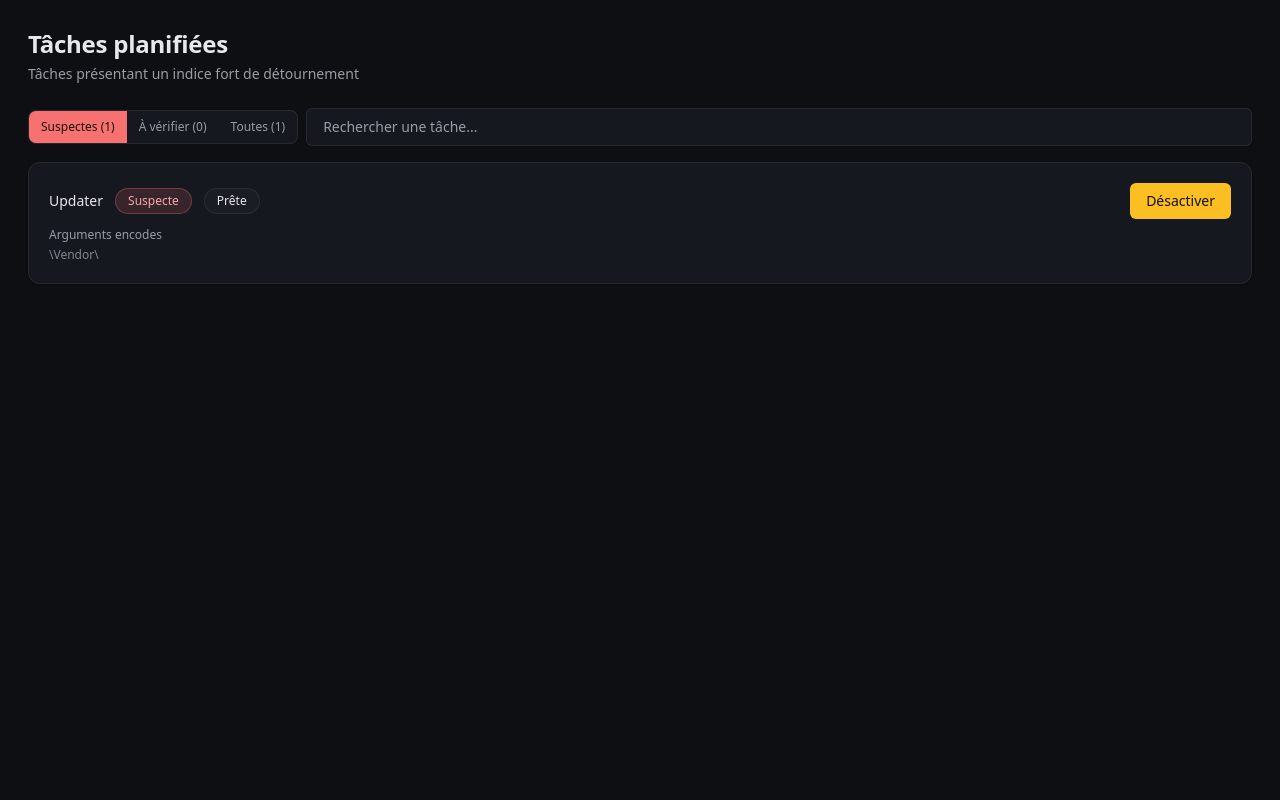
Test: TasksPage badge de la barre laterale › demande le rafraichissement du compteur apres une desactivation reussie
Click the button "Désactiver" at (1181, 201), box x1=1130 y1=183 x2=1231 y2=219
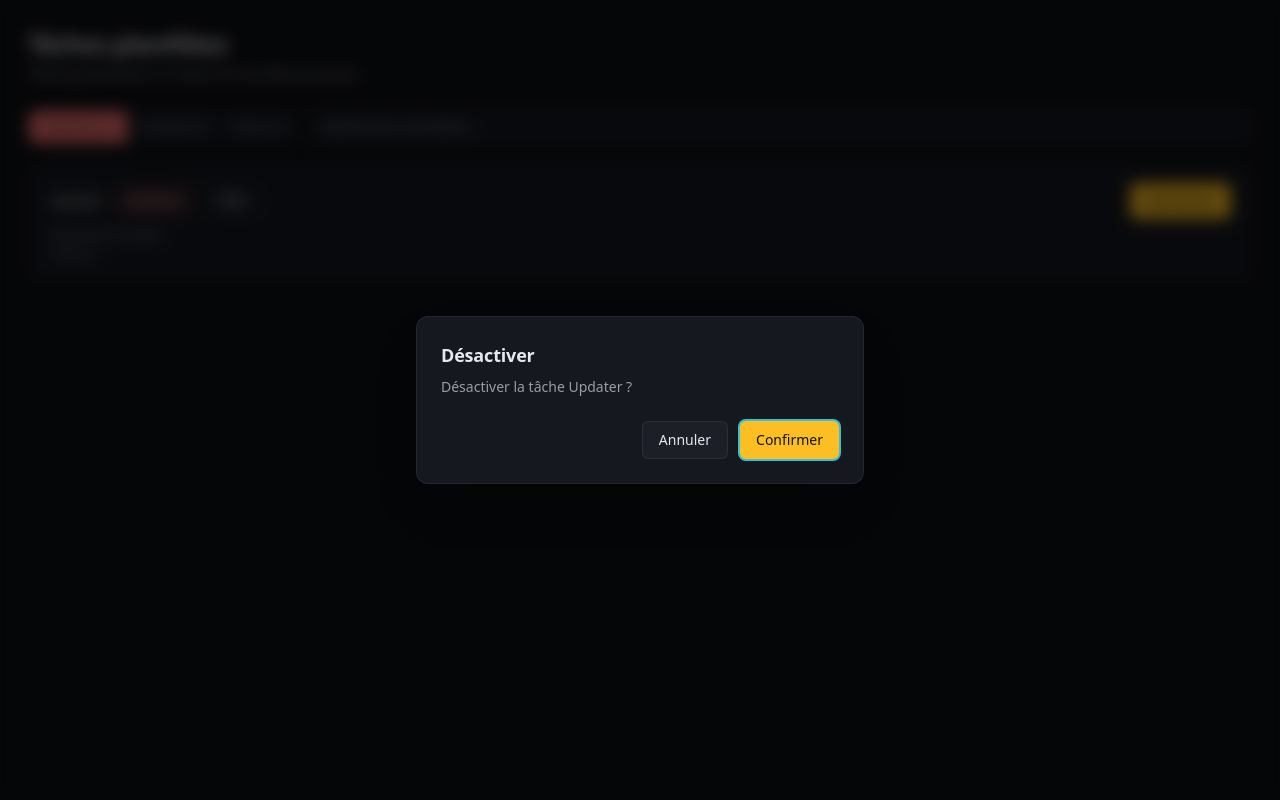
Click the button "Confirmer" at (790, 440), box x1=740 y1=421 x2=839 y2=459
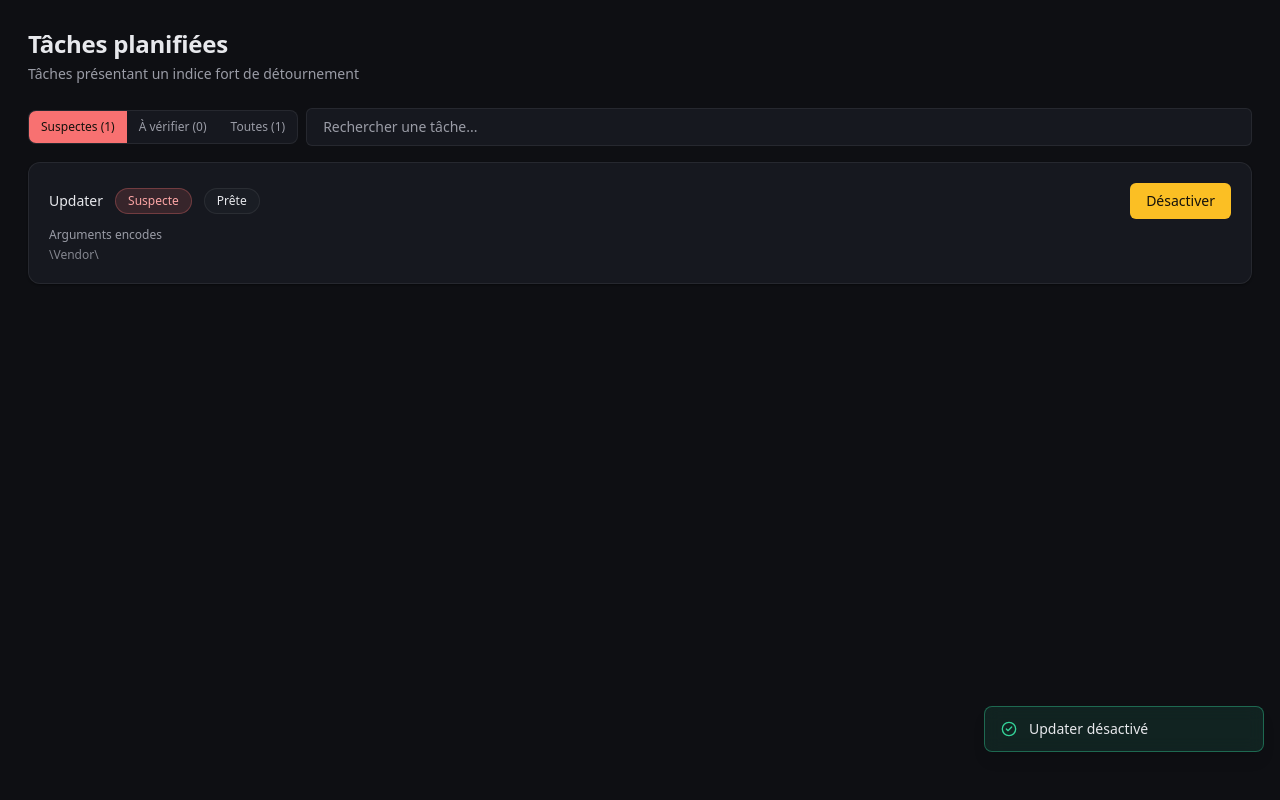
Now the text "Updater désactivé" is shown, box x1=1029 y1=719 x2=1148 y2=738
